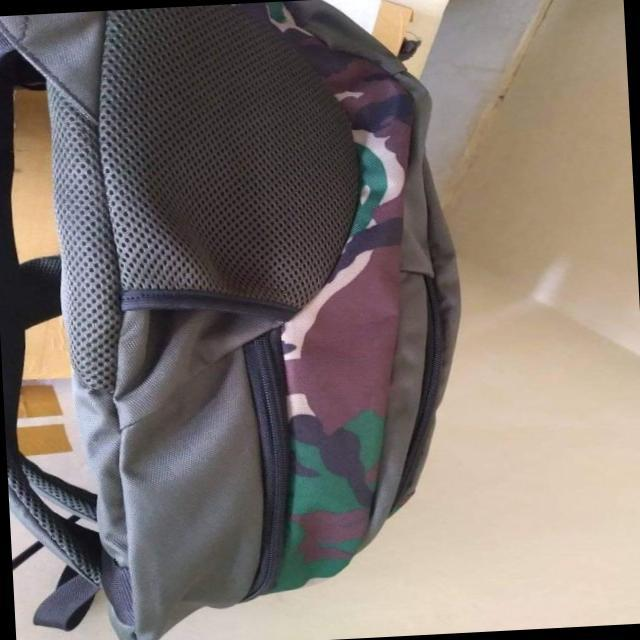bag: (16, 6, 456, 640)
